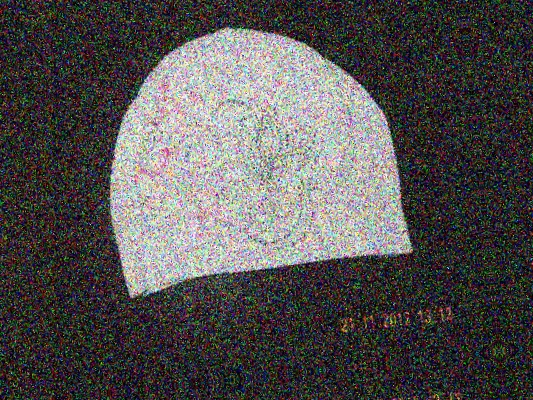Hat: (58, 0, 444, 334), (508, 0, 533, 286)
